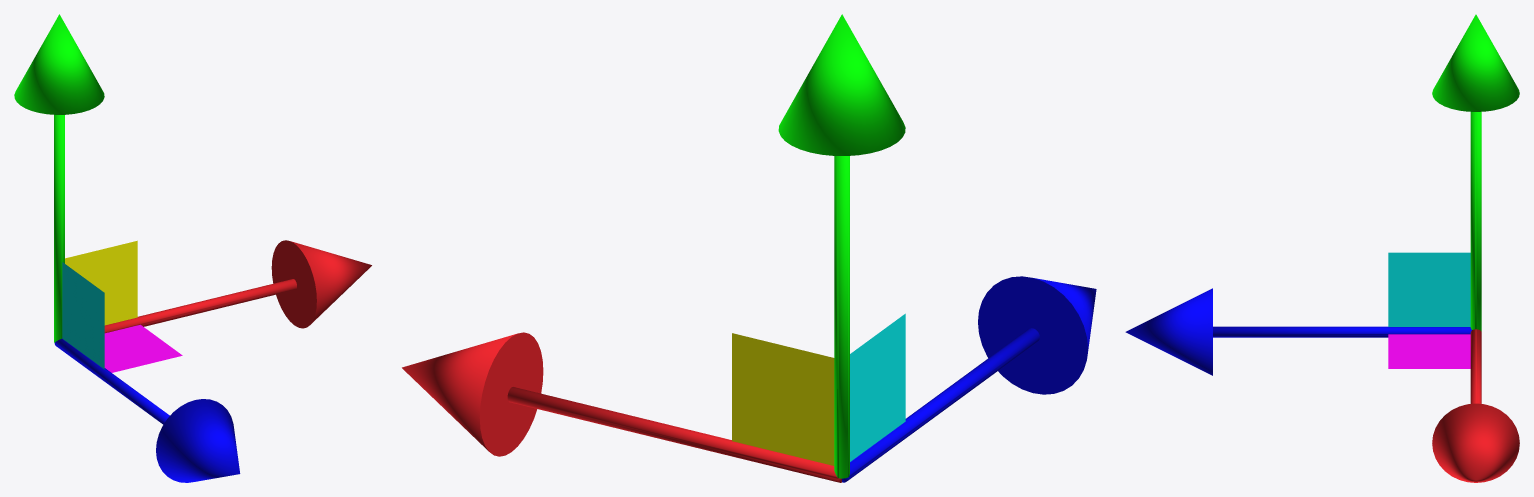
Rendered from transform.obj.
3 renders of one model, left to right at view 1: azimuth 30°, elevation 25°; view 2: azimuth 150°, elevation 25°; view 3: azimuth 270°, elevation 25°, orthographic. The views are drawn at different scales.
Parts seen in each view (by area): view 1: gizmo_Cone.001; view 2: gizmo_Cone.001; view 3: gizmo_Cone.001.
Part boxes in pixels (x1=…): gizmo_Cone.001: x1=14, y1=14, x2=371, y2=482; gizmo_Cone.001: x1=402, y1=14, x2=1096, y2=482; gizmo_Cone.001: x1=1125, y1=14, x2=1519, y2=482.
Bounding box in the file's own units: 9 × 9 × 9.
